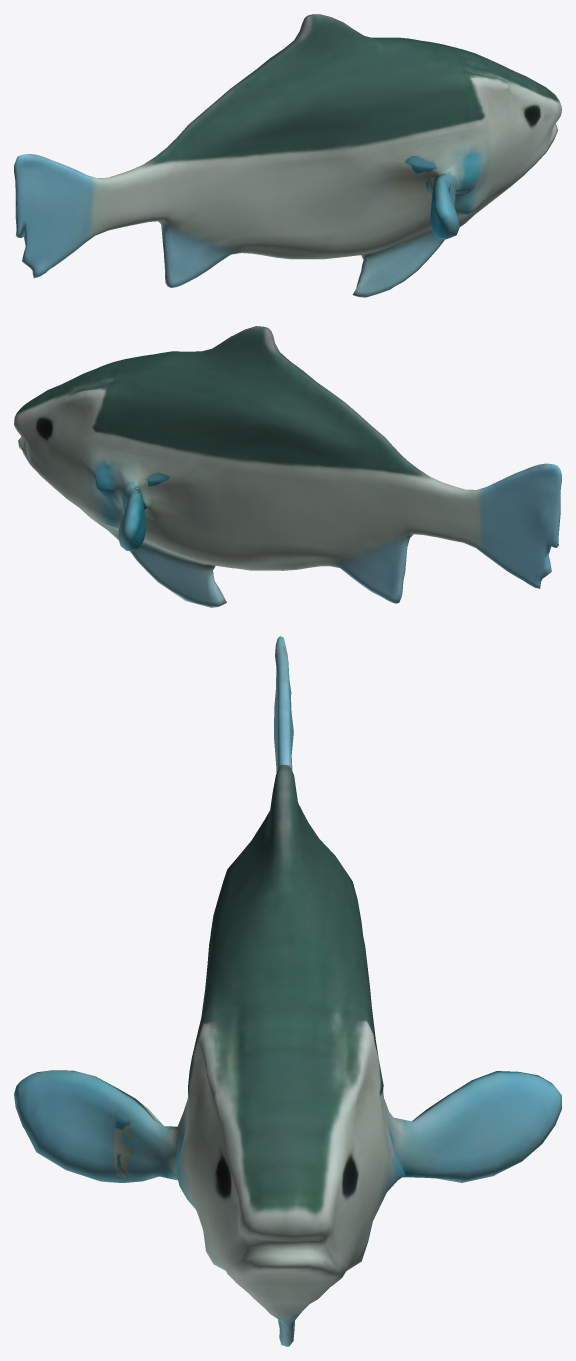
Rendered from fish_13.glb.
3 renders of one model, top to bottom at view 1: azimuth 30°, elevation 25°; view 2: azimuth 150°, elevation 25°; view 3: azimuth 270°, elevation 25°, orthographic. The views are drawn at different scales.
Visible parts, largest first — view 1: mesh; view 2: mesh; view 3: mesh.
Part boxes in pixels (bbox=[...]): mesh: bbox=[14, 14, 561, 297]; mesh: bbox=[14, 326, 561, 607]; mesh: bbox=[14, 636, 561, 1346].
Size of the model in its own units: 0.9937 by 0.5171 by 0.5.
Materials: 1 (1 with a texture image).
